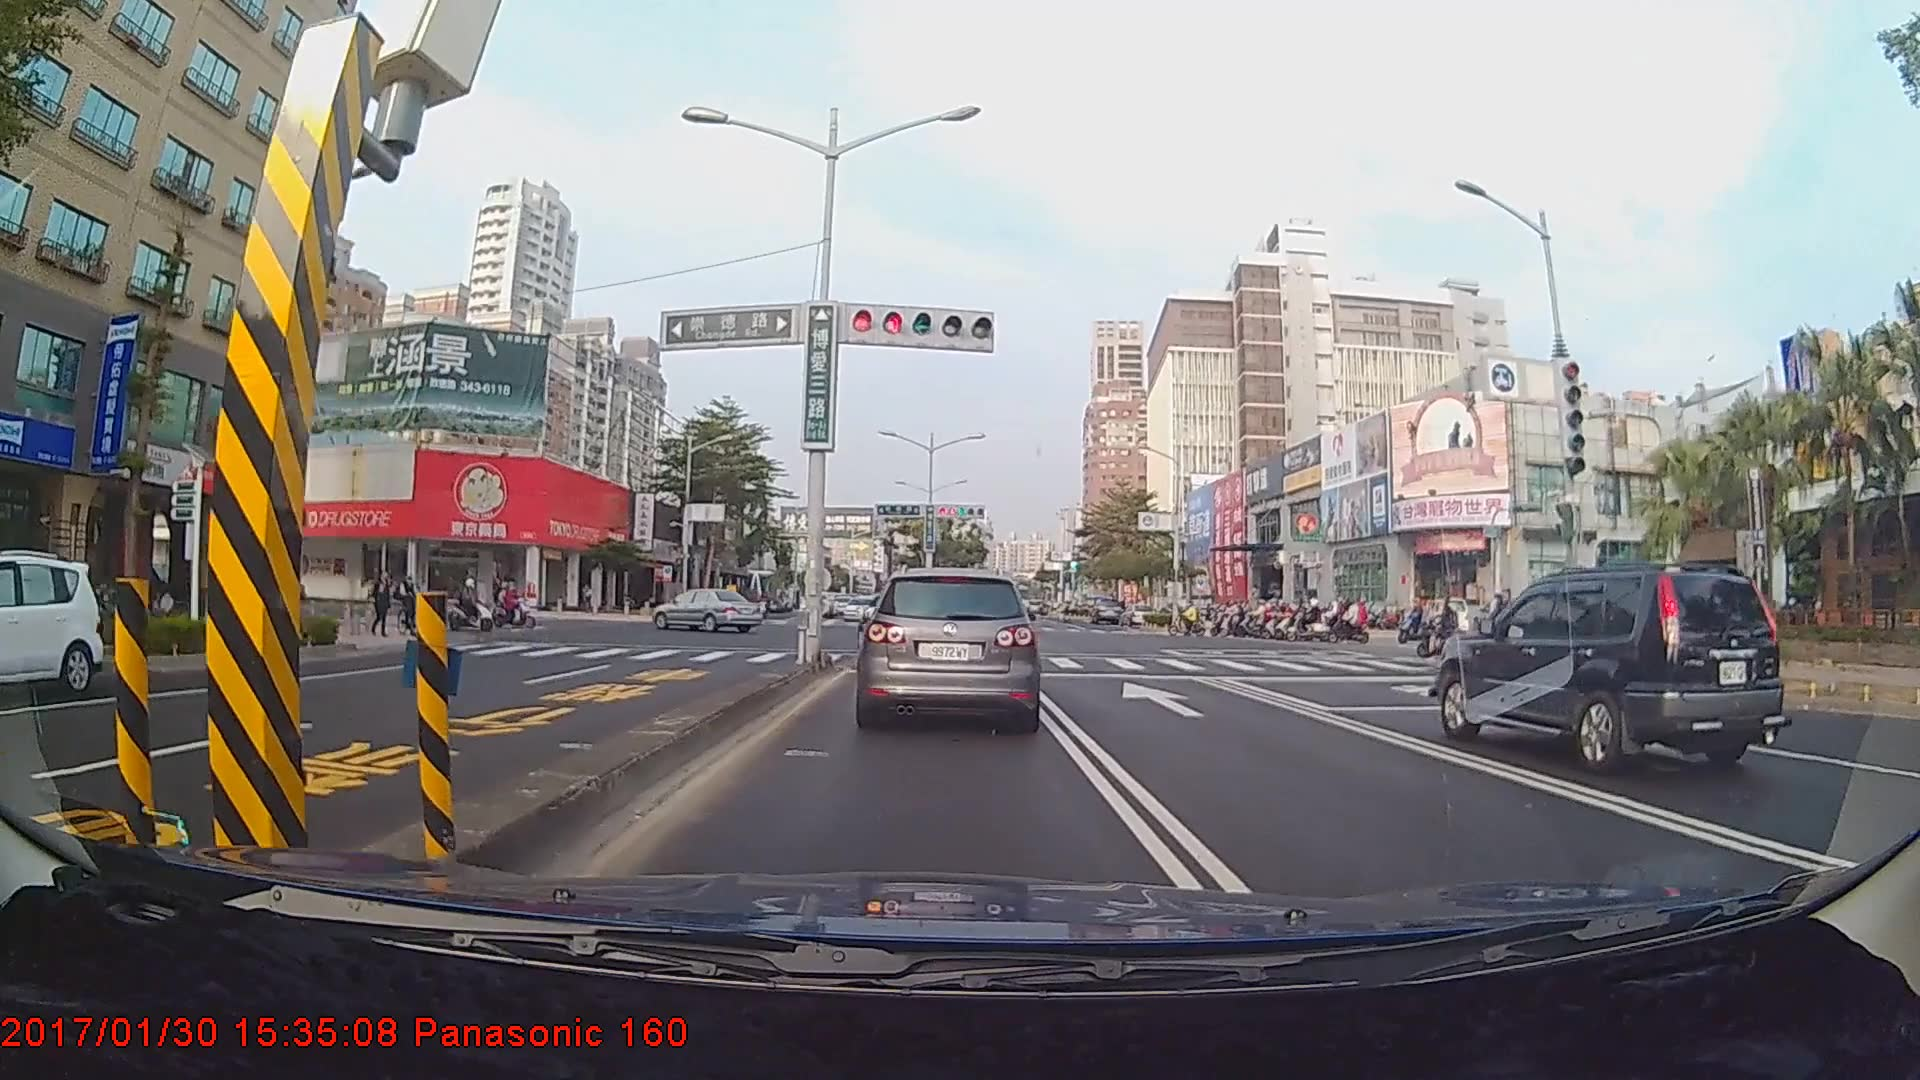pedestrian: (371, 566, 395, 641)
rider: (1419, 600, 1475, 661), (398, 566, 437, 636), (1327, 594, 1376, 645), (492, 576, 537, 629), (1303, 601, 1349, 642), (1172, 600, 1208, 637)
vehicle: (1431, 566, 1791, 778), (861, 569, 1041, 729), (0, 557, 96, 706), (651, 585, 767, 634), (1092, 597, 1122, 625)
